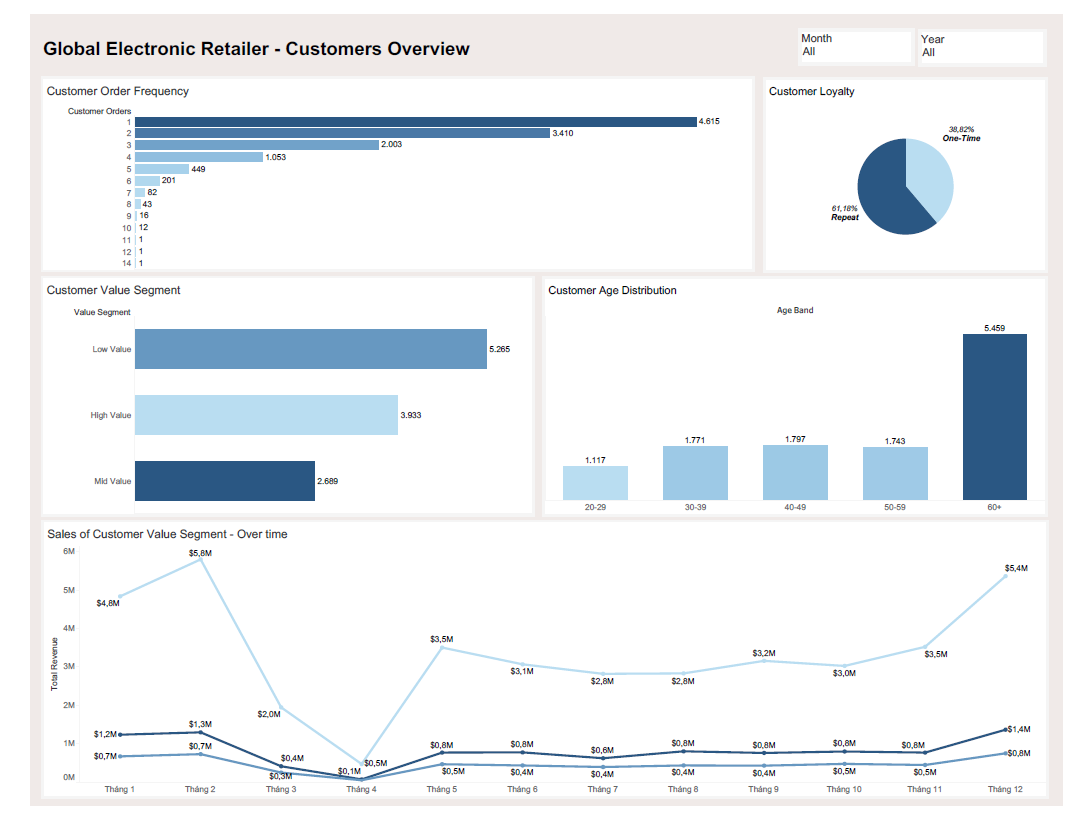

Layout of this report page (visuals, bound fields, positions):
{"tool":"tableau","page":{"name":"Customers Overview","canvas":[1500,1150],"ordinal":0},"visuals":[{"type":"parameter","param":"[Parameters].[YEAR Parameter]","box":[1291,21,186,54]},{"type":"text","box":[15,26,692,47]},{"type":"worksheet","title":"Customer Order","mark":"Automatic","rows":["Calculation_2140054277193887748"],"cols":["CustomerKey"],"box":[15,90,1037,284]},{"type":"worksheet","title":"Customer Loyalty","mark":"Pie","box":[1066,91,413,284]},{"type":"worksheet","title":"Customer Value Segment","mark":"Automatic","rows":["Calculation_1338976494348345346"],"cols":["CustomerKey (Customer.csv)"],"box":[15,380,717,350]},{"type":"worksheet","title":"Customer Age Distribution","mark":"Automatic","rows":["CustomerKey (Customer.csv)"],"cols":["Age_Band"],"box":[745,381,734,349]},{"type":"worksheet","title":"Customer Value Segment - Over time","mark":"Automatic","rows":["Revenue"],"cols":["Order_Date_Formatted"],"box":[16,735,1464,405]}]}

Visuals, with their boxes in screenshot pixels (x1, y1, x2, y2), scaled from the page's 1500x1150 canvas onto the 1078x823 screenshot:
parameter: 928 15 1061 54
text: 11 19 508 52
"Customer Order" worksheet: 11 64 756 268
"Customer Loyalty" worksheet (Pie marks): 766 65 1063 268
"Customer Value Segment" worksheet: 11 272 526 522
"Customer Age Distribution" worksheet: 535 273 1063 522
"Customer Value Segment - Over time" worksheet: 11 526 1064 816
